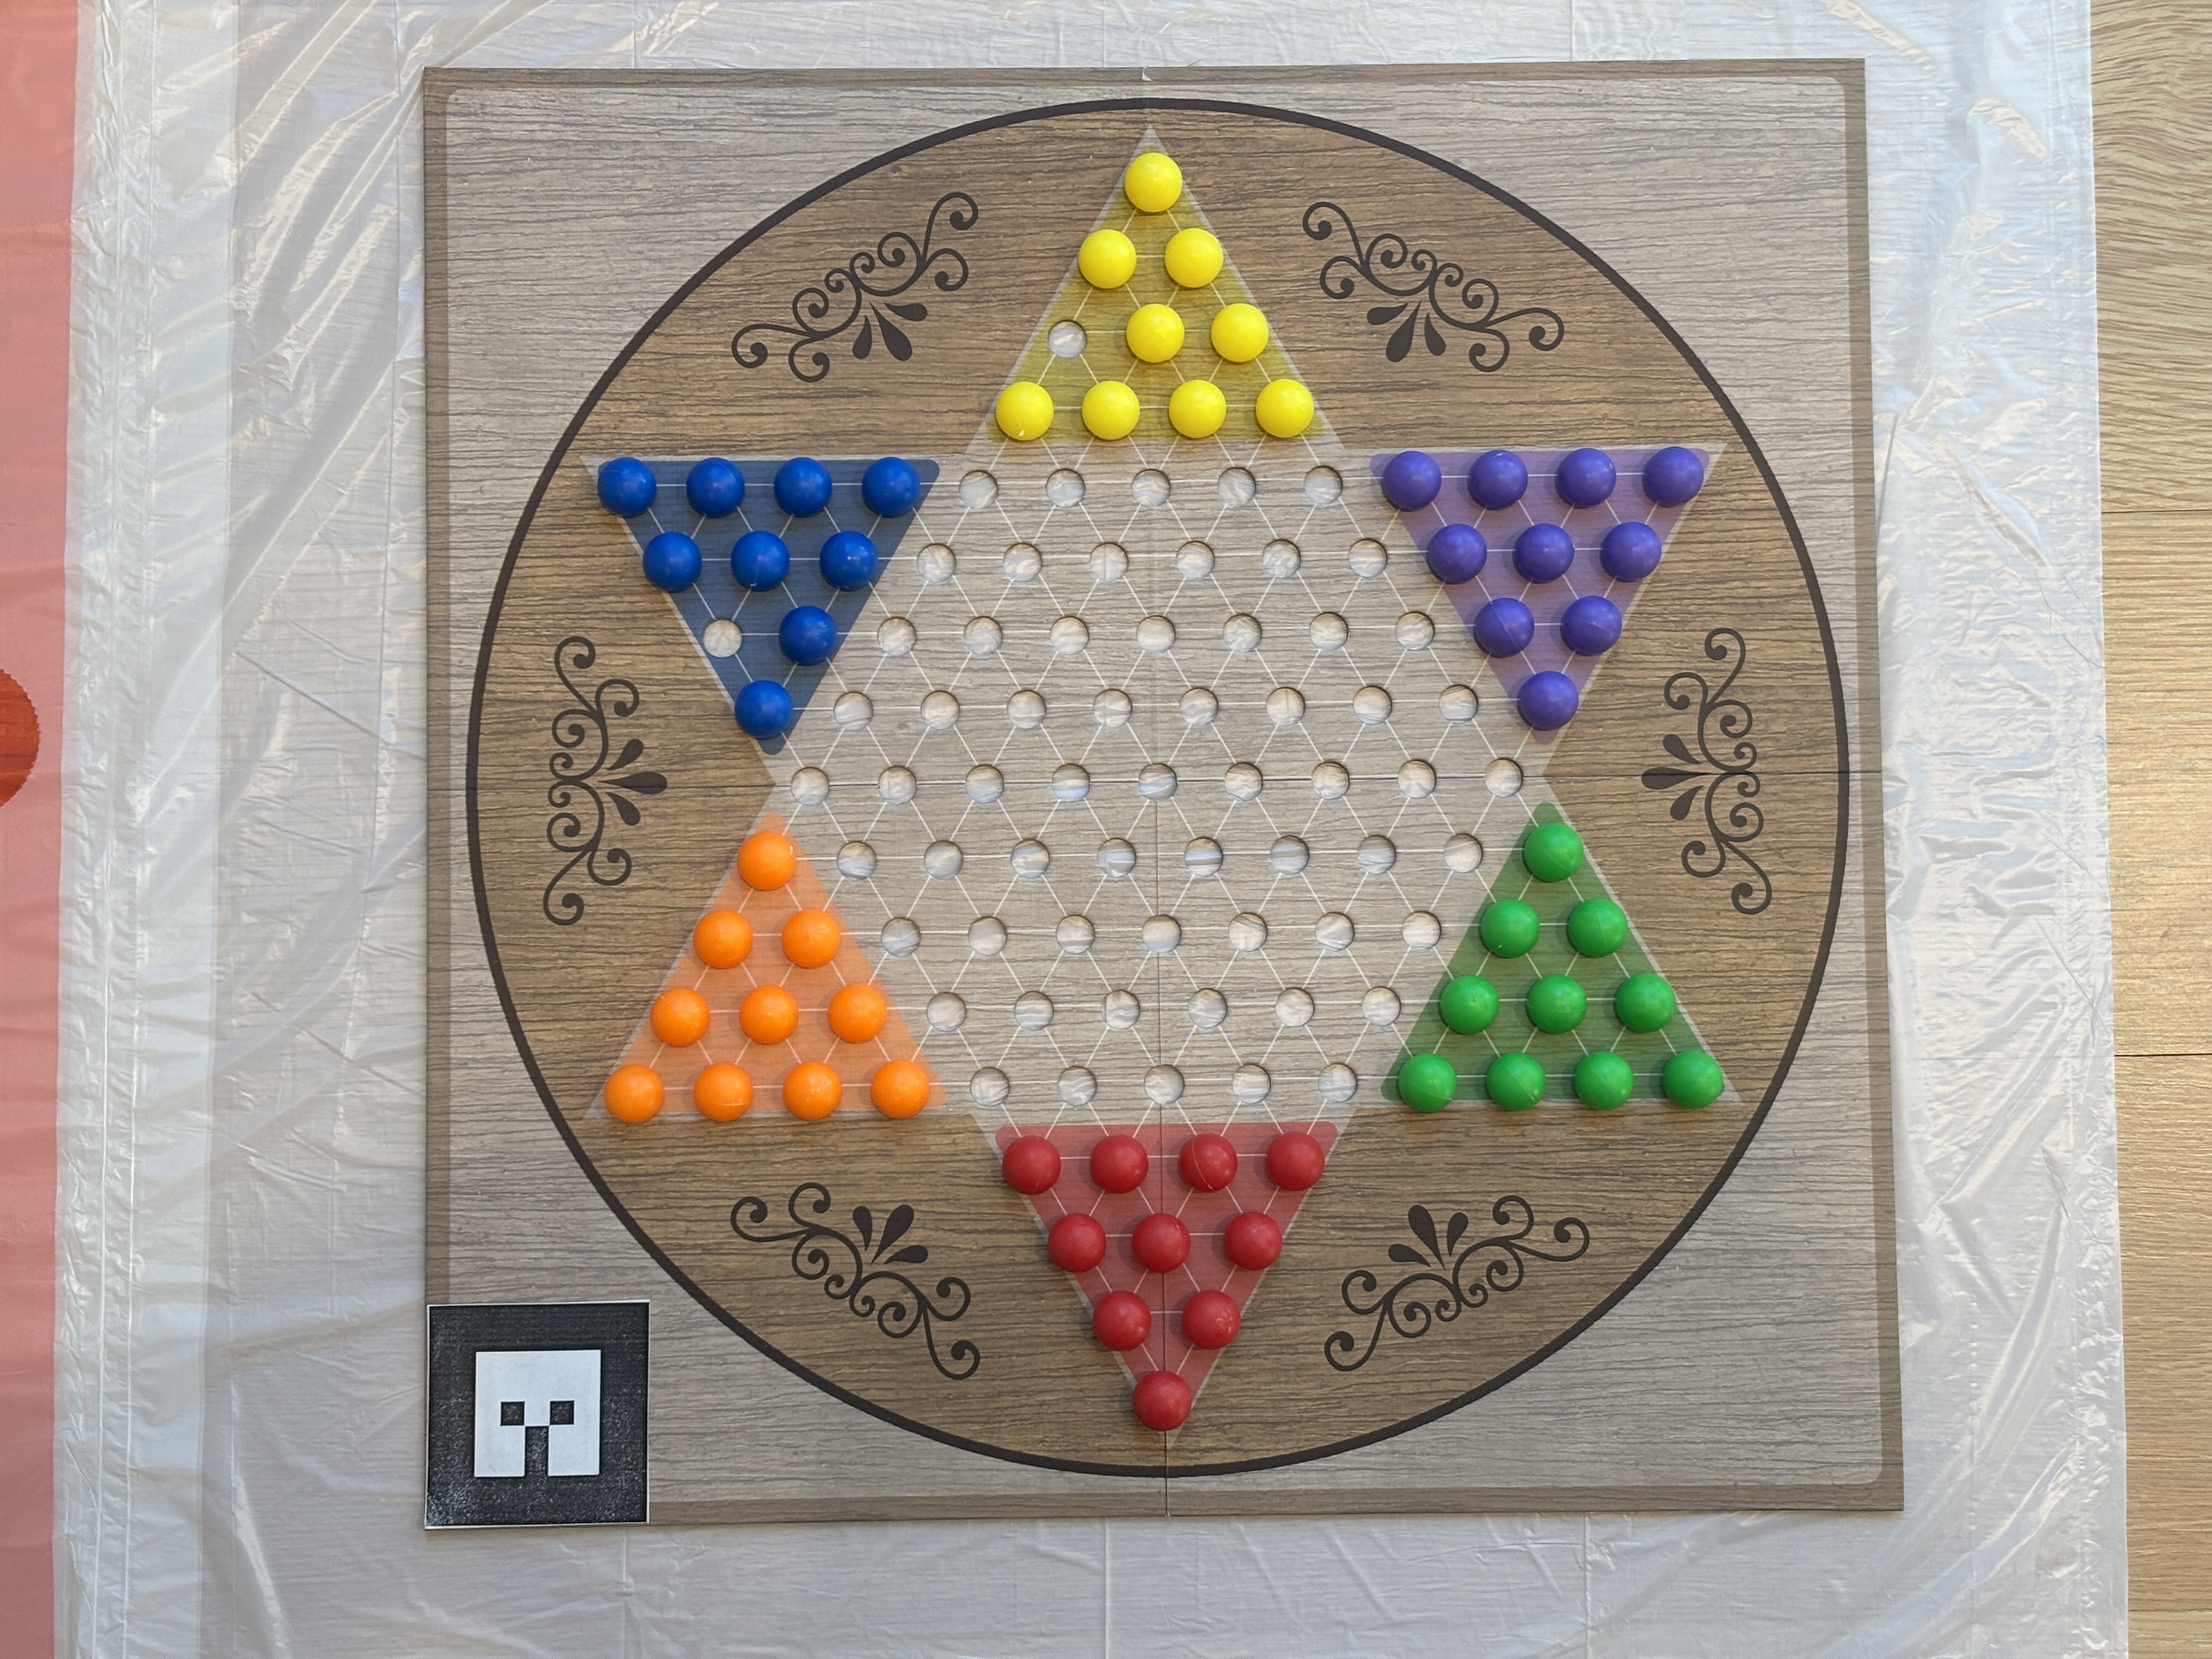blue: (862, 457, 921, 518), (819, 530, 878, 589), (777, 606, 836, 666), (730, 532, 789, 591), (641, 532, 700, 591), (596, 458, 655, 518), (685, 457, 744, 516), (733, 680, 792, 739), (775, 458, 833, 516)
empty_peg: (789, 765, 831, 805), (876, 765, 918, 805), (874, 617, 916, 657), (961, 615, 1003, 655), (880, 917, 921, 957), (1087, 540, 1129, 580), (1005, 688, 1047, 728), (1216, 465, 1258, 505), (1259, 537, 1301, 577), (1221, 612, 1263, 652), (1010, 838, 1052, 878), (925, 990, 967, 1030), (1054, 913, 1096, 953), (1226, 913, 1268, 953), (1442, 833, 1484, 873), (836, 840, 876, 880), (916, 542, 956, 582), (958, 469, 998, 509), (1003, 542, 1043, 582), (1049, 613, 1089, 653), (1303, 464, 1343, 504), (1346, 537, 1386, 577), (1136, 612, 1176, 652), (1393, 610, 1433, 650), (1050, 762, 1090, 802), (967, 915, 1007, 955), (968, 1066, 1008, 1107), (1096, 838, 1136, 878), (1179, 685, 1219, 725), (1137, 762, 1177, 802), (1266, 685, 1306, 725), (1141, 913, 1181, 953), (1101, 990, 1141, 1030), (1270, 835, 1310, 875), (1439, 681, 1479, 721), (1484, 756, 1524, 796), (1273, 985, 1313, 1025), (1317, 1061, 1357, 1101), (1231, 1063, 1271, 1103), (1301, 464, 1343, 502), (1174, 540, 1216, 579), (1090, 687, 1132, 725), (1183, 836, 1224, 875), (1055, 1066, 1097, 1105), (1143, 1065, 1184, 1103), (1186, 988, 1228, 1026), (1355, 835, 1397, 873), (1047, 321, 1087, 359), (702, 619, 742, 657), (833, 692, 873, 730), (1045, 469, 1085, 507), (920, 690, 960, 728), (963, 765, 1003, 803), (921, 840, 961, 878), (1130, 469, 1170, 507), (1308, 612, 1348, 650), (1014, 992, 1054, 1030), (1223, 762, 1263, 800), (1310, 762, 1350, 800), (1352, 685, 1392, 723), (1397, 758, 1437, 796), (1313, 911, 1353, 950), (1400, 910, 1440, 948), (1360, 986, 1400, 1025)
green: (1479, 897, 1540, 957), (1439, 972, 1500, 1032), (1486, 1051, 1547, 1110), (1524, 823, 1583, 882), (1397, 1051, 1456, 1110), (1527, 974, 1587, 1033), (1568, 896, 1627, 955), (1616, 972, 1676, 1032), (1573, 1049, 1632, 1108), (1663, 1049, 1723, 1108)
orange: (871, 1060, 932, 1121), (735, 831, 796, 892), (691, 908, 752, 969), (738, 983, 799, 1044), (827, 983, 887, 1044), (782, 908, 841, 969), (650, 986, 711, 1046), (604, 1061, 664, 1122), (693, 1061, 752, 1122), (784, 1060, 843, 1119)
purple: (1561, 596, 1622, 655), (1514, 523, 1575, 582), (1555, 448, 1616, 507), (1642, 448, 1703, 507), (1599, 521, 1660, 580), (1468, 450, 1527, 509), (1519, 671, 1578, 730), (1381, 451, 1440, 509), (1426, 525, 1486, 582), (1474, 598, 1533, 655)
red: (1264, 1131, 1325, 1190), (1177, 1133, 1238, 1190), (1089, 1134, 1150, 1192), (1000, 1134, 1061, 1192), (1047, 1215, 1108, 1272), (1130, 1213, 1191, 1270), (1090, 1290, 1151, 1347), (1221, 1211, 1282, 1269), (1132, 1371, 1193, 1429), (1181, 1291, 1240, 1349)
yellow: (1080, 380, 1141, 439), (1165, 228, 1223, 289), (1078, 228, 1136, 289), (1125, 152, 1183, 213), (1127, 303, 1184, 362), (1211, 303, 1268, 362), (1169, 380, 1226, 437), (1256, 380, 1313, 437), (995, 383, 1054, 439)
